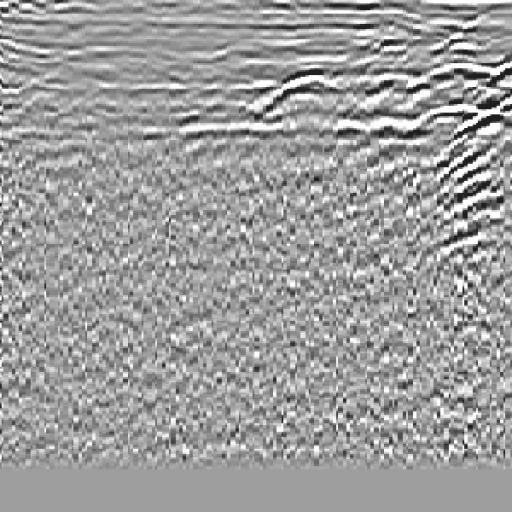metalic: (230, 59, 382, 125)
non-metallic: (418, 65, 512, 242)
